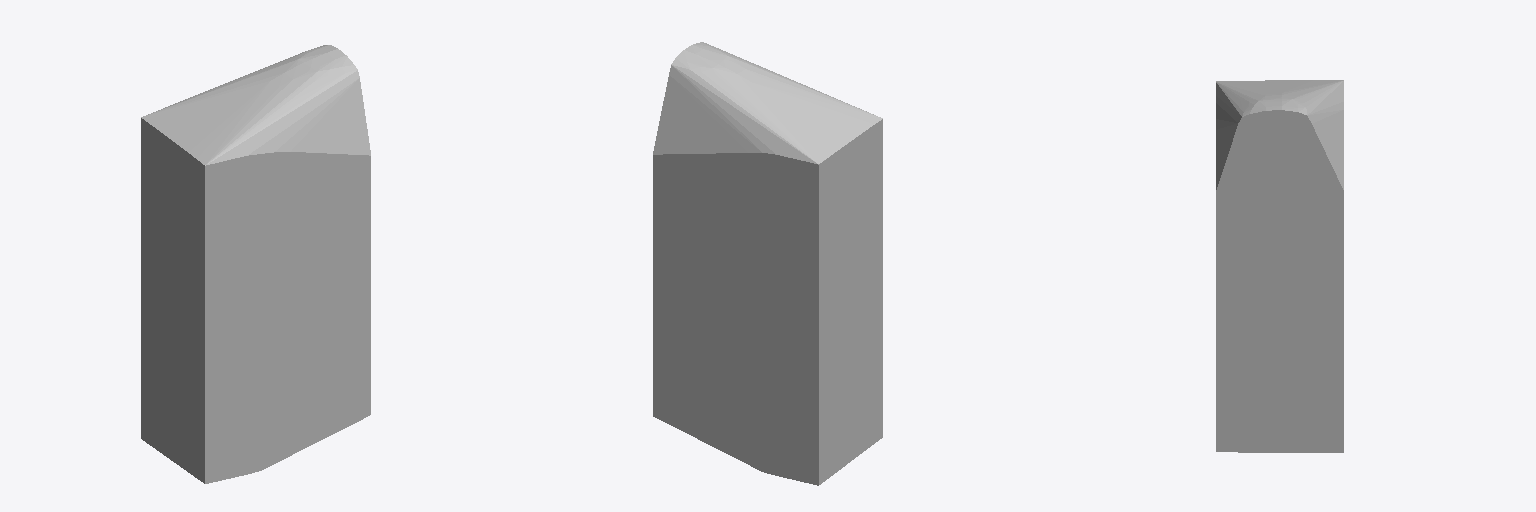
File: Multimeter_collision_12.obj
3 renders of one model, left to right at view 1: azimuth 30°, elevation 25°; view 2: azimuth 150°, elevation 25°; view 3: azimuth 270°, elevation 25°, orthographic.
Bounding box in the file's own units: 16.73 × 35.87 × 11.23.